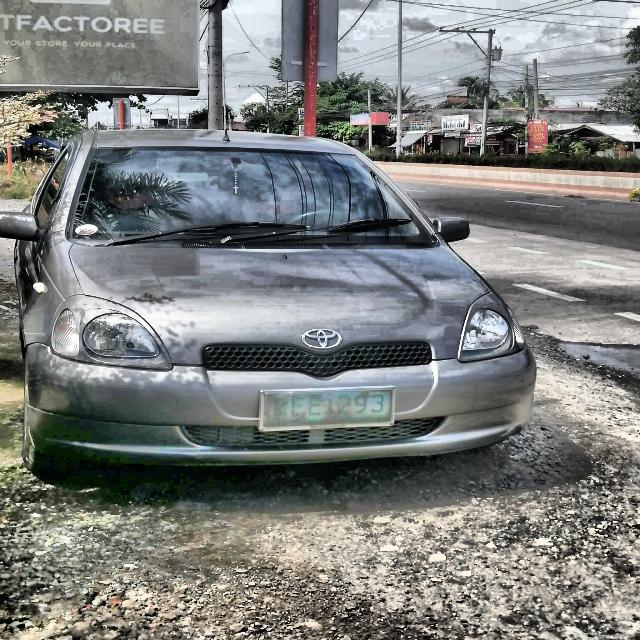license-plate: (261, 386, 399, 435)
